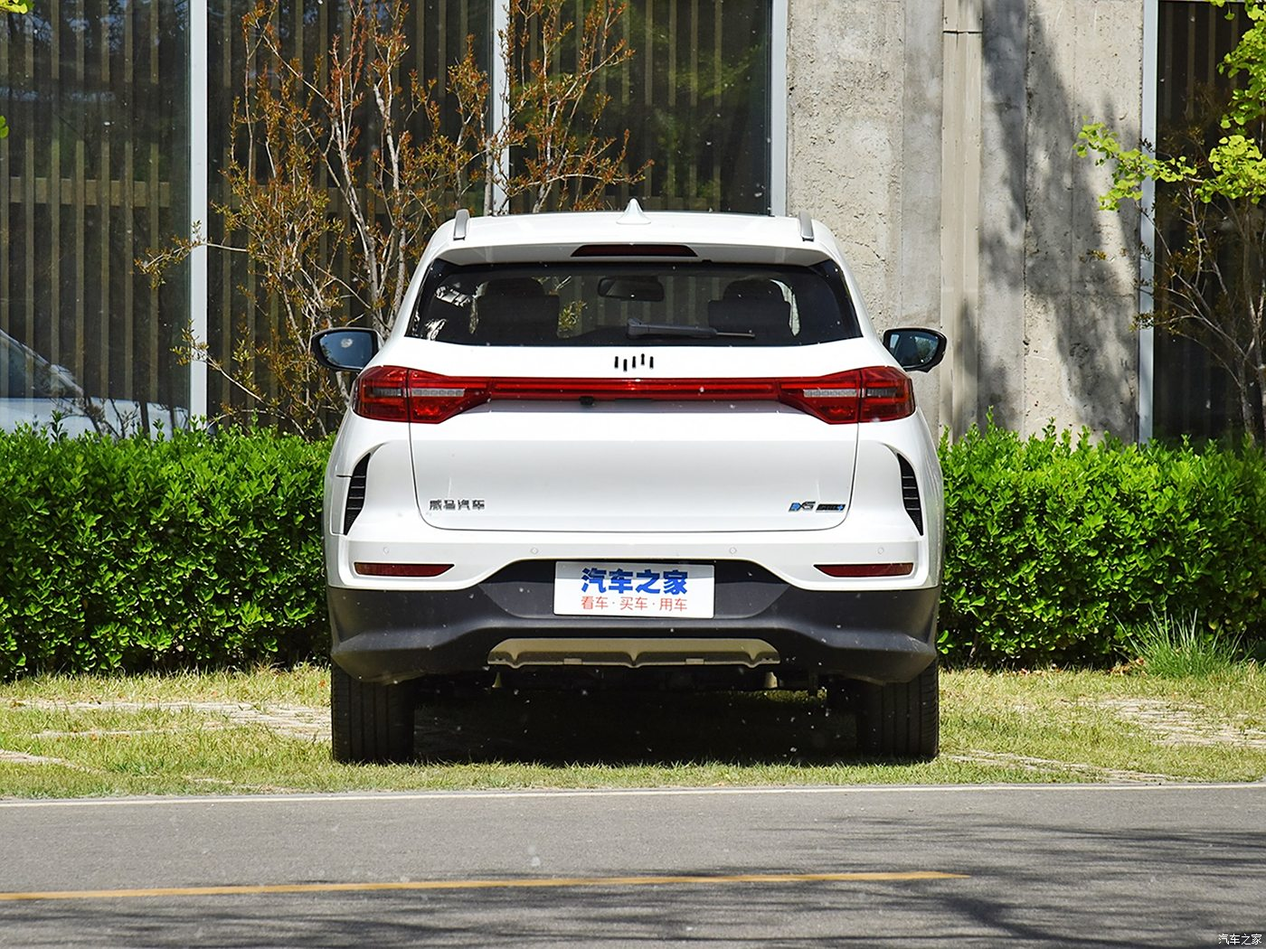WELTMEISTER: (615, 354, 653, 371)
